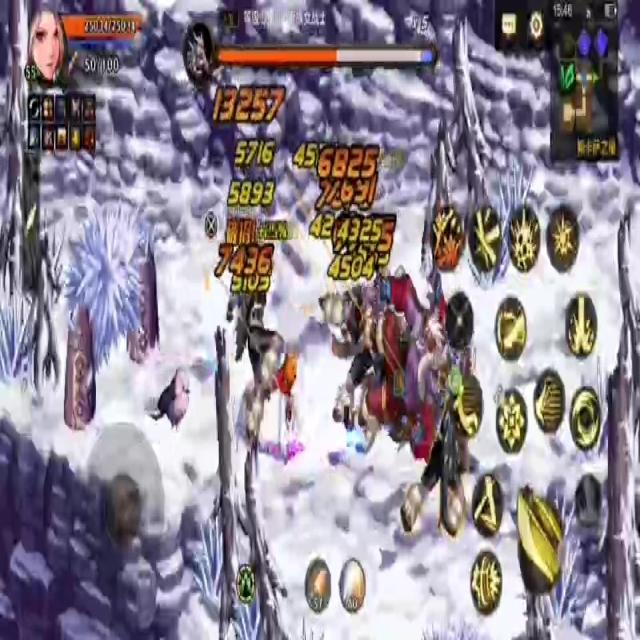player: (261, 350, 305, 470)
